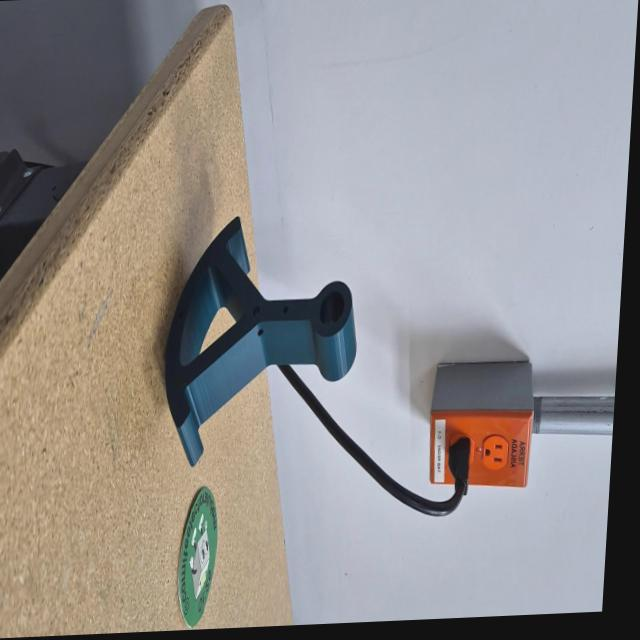haptic: (157, 207, 366, 471)
